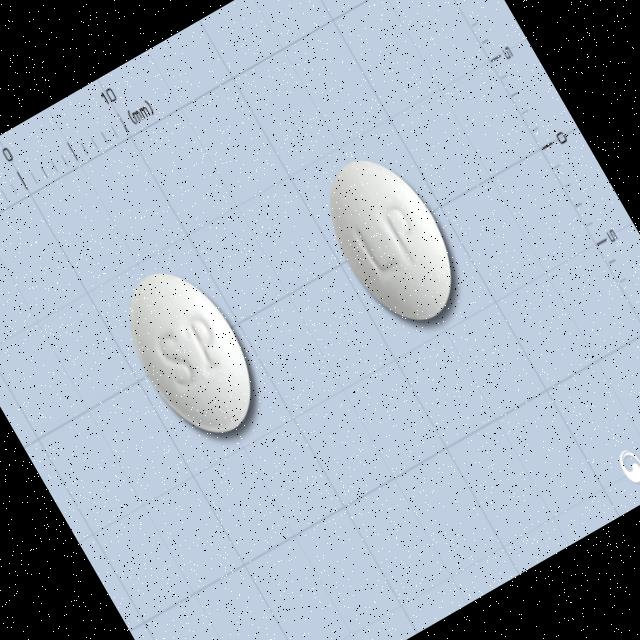Lefocin: (104, 252, 276, 454), (306, 140, 478, 340)
